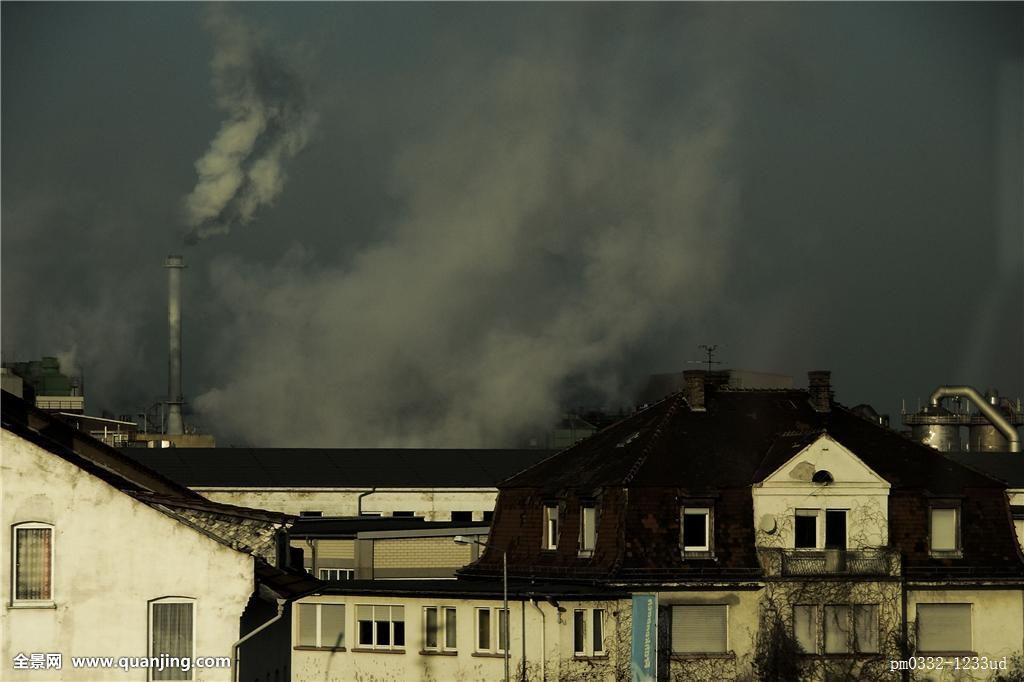dust: (144, 11, 368, 281)
